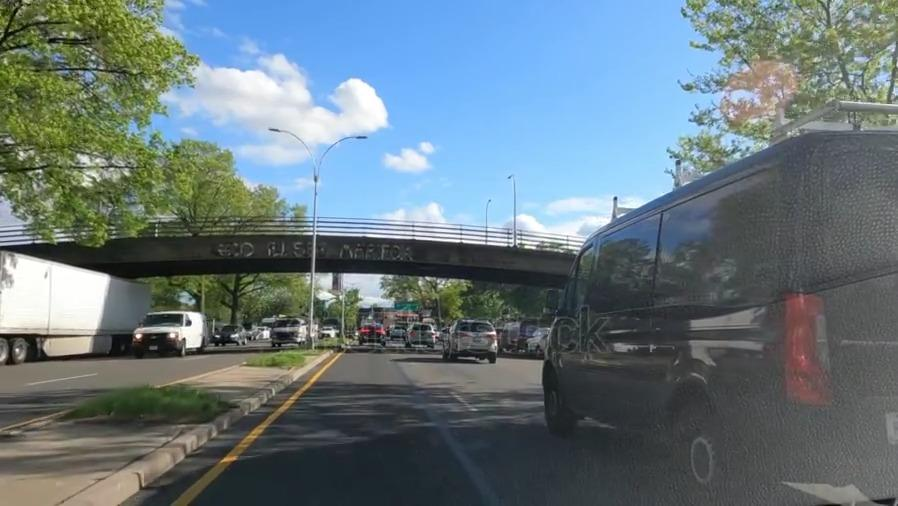car: (447, 320, 495, 365), (404, 323, 435, 350), (357, 323, 384, 348), (218, 324, 249, 345)
truck: (0, 279, 155, 355)
van: (579, 127, 895, 483), (135, 311, 209, 356)
wheel: (669, 398, 733, 499), (537, 363, 574, 435)
